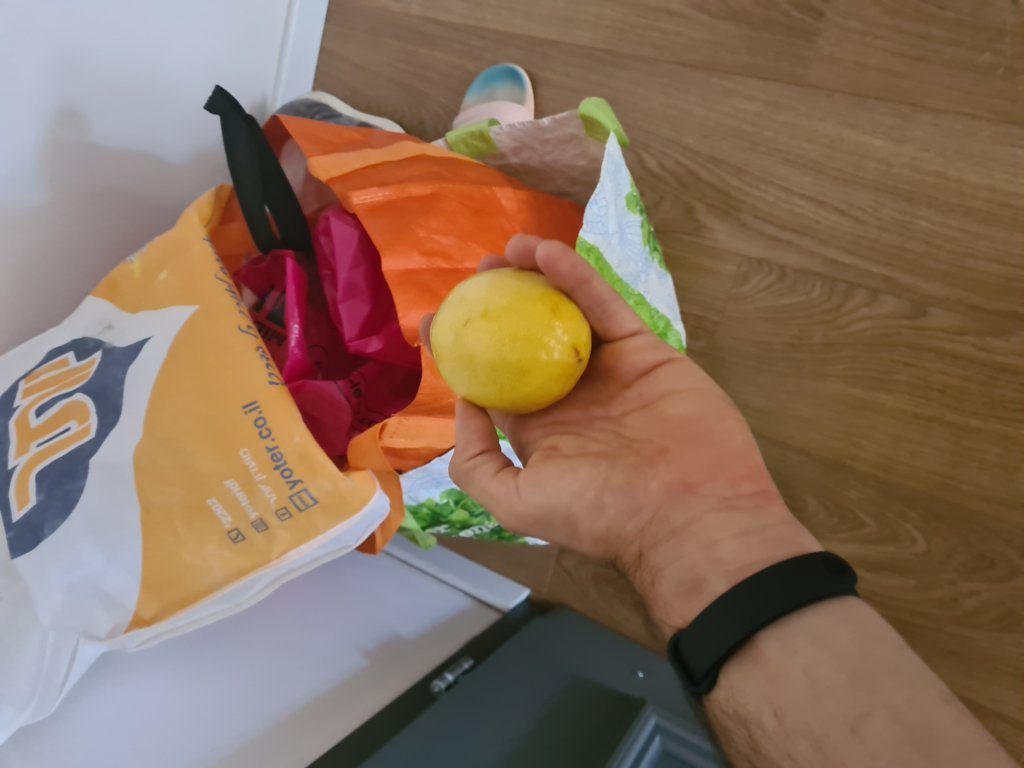lemon: (429, 282, 599, 410)
